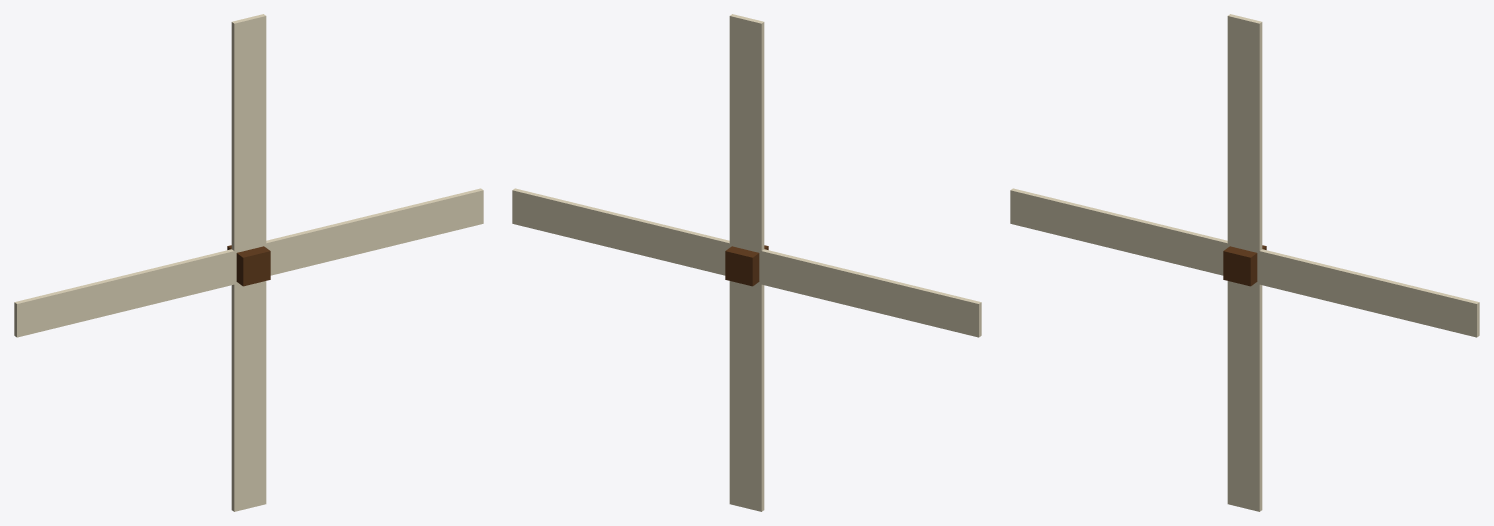
The model's file is windmill_blades.glb.
3 views of the same model, side by side, from view 1: azimuth 30°, elevation 25°; view 2: azimuth 150°, elevation 25°; view 3: azimuth 330°, elevation 25° (orthographic).
Parts seen in each view (by area): view 1: windmill_blades; view 2: windmill_blades; view 3: windmill_blades.
Boxes of the visible parts, bbox=[...] form: windmill_blades: bbox=[14, 14, 483, 511]; windmill_blades: bbox=[512, 14, 981, 511]; windmill_blades: bbox=[1010, 14, 1479, 511].
Size of the model in its own units: 5.1 by 5.1 by 0.3.
